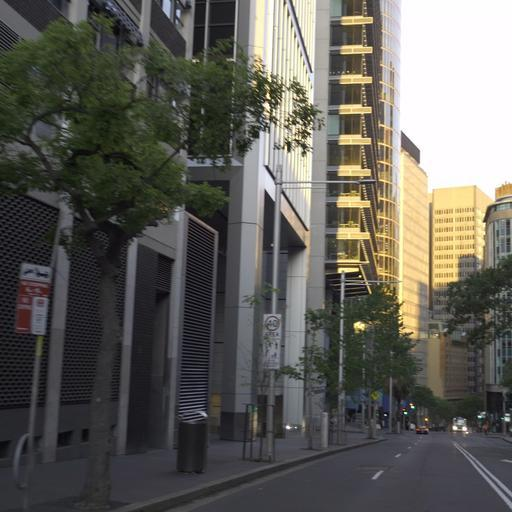Street light: (264, 174, 378, 462), (335, 270, 403, 444), (352, 319, 369, 426)
